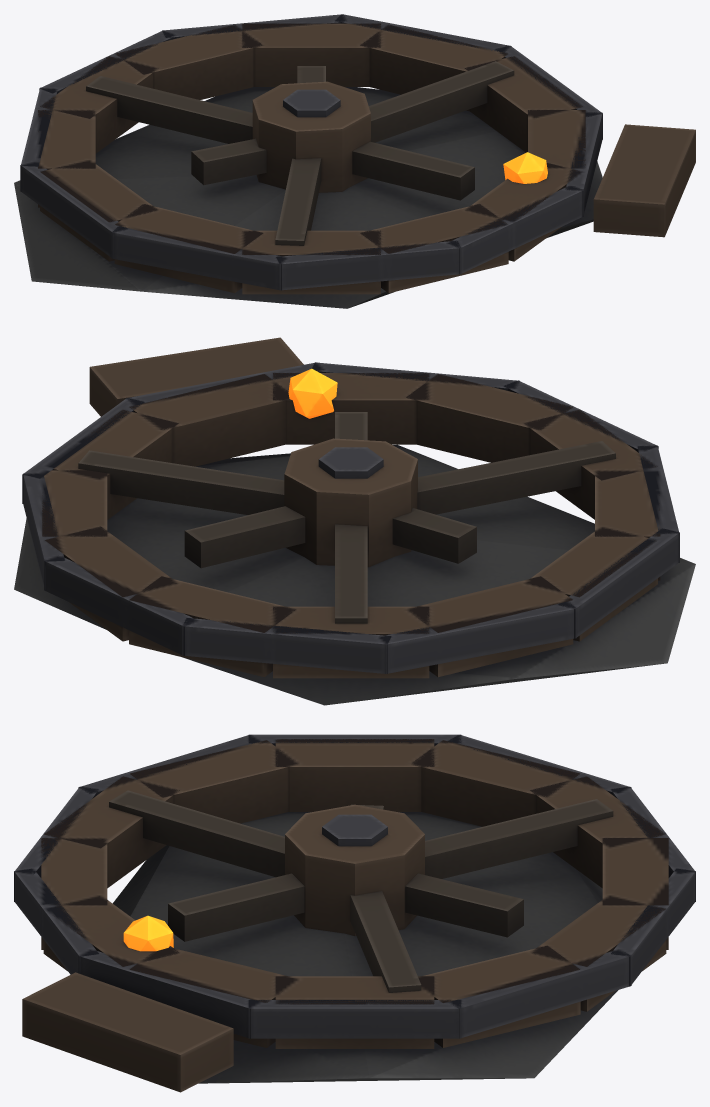
Rendered from sign_giant_wheel.glb.
The picture shows the model from 3 angles, top to bottom: view 1: azimuth 30°, elevation 25°; view 2: azimuth 150°, elevation 25°; view 3: azimuth 270°, elevation 25°; orthographic projection. The views are drawn at different scales.
Parts seen in each view (by area): view 1: sign_giant_wheel; view 2: sign_giant_wheel; view 3: sign_giant_wheel.
Boxes of the visible parts, box(x1,y1,x2,y2) form: sign_giant_wheel: box(14, 14, 695, 308); sign_giant_wheel: box(14, 337, 695, 705); sign_giant_wheel: box(14, 734, 695, 1092).
Bounding box in the file's own units: 1.89 × 0.4047 × 1.65.
1 material, 1 textured.
